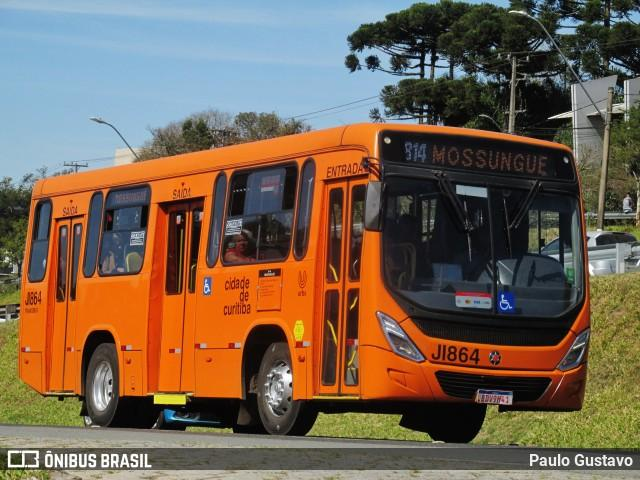MOSSUNGUE: (429, 139, 553, 181)
